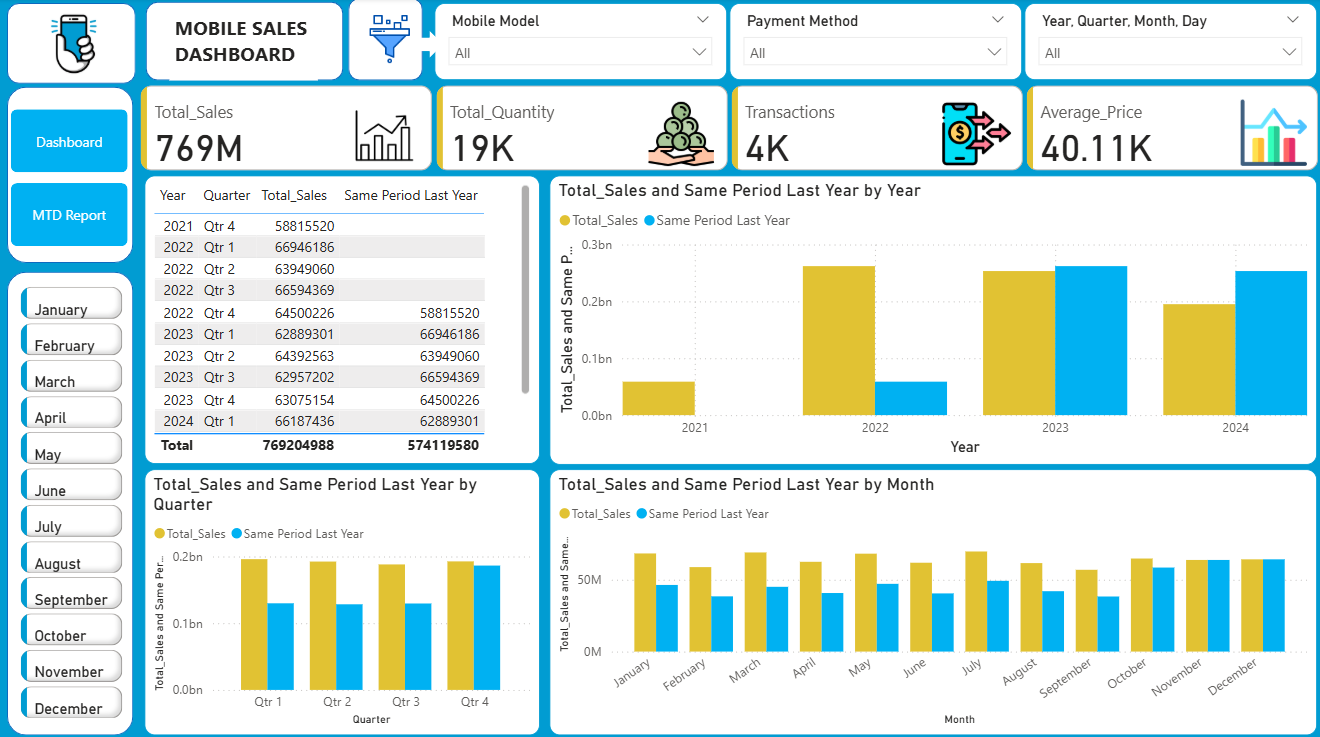

The page's visual inventory and layout, read from the dashboard file:
{"tool":"powerbi","page":{"name":"Same Period Last Year","canvas":[1280,720],"ordinal":2},"visuals":[{"type":"shape","box":[9.7,4.8,124.3,78],"z":0},{"type":"image","box":[27.7,2.4,92,83],"z":1000},{"type":"cardVisual","fields":{"Data":["Sales_Data.Total_Sales","Sales_Data.Total_Quantity","Sales_Data.Transactions","Sales_Data.Average_Price"]},"box":[133.9,79.6,1146.1,92.9],"z":2000},{"type":"slicer","fields":{"Values":["Sales_Data.Mobile Model"]},"box":[422.3,4.8,282,74.8],"z":3000},{"type":"slicer","fields":{"Values":["Sales_Data.Payment Method"]},"box":[707,4.8,282,74.8],"z":4000},{"type":"slicer","fields":{"Values":["Custom_Calendar.Date.Variation.Date Hierarchy.Year","Custom_Calendar.Date.Variation.Date Hierarchy.Quarter","Custom_Calendar.Date.Variation.Date Hierarchy.Month","Custom_Calendar.Date.Variation.Date Hierarchy.Day"]},"box":[991.7,4.8,282,74.8],"z":5000},{"type":"shape","box":[339,0,72,79.6],"z":6000},{"type":"image","box":[346.2,10.9,65.1,57.9],"z":7000},{"type":"shape","box":[401.7,31.4,29,26.5],"z":8000},{"type":"shape","box":[143.6,3.6,190.6,76],"z":9000},{"type":"textbox","box":[166.5,10.9,143.6,68.8],"z":10000},{"type":"shape","box":[9.7,85.7,121.9,170.1],"z":11000},{"type":"shape","box":[9.7,264.2,121.9,447.6],"z":13000},{"type":"advancedSlicerVisual","fields":{"Values":["Custom_Calendar.Date.Variation.Date Hierarchy.Month"]},"box":[18.1,273.9,108.6,437.9],"z":14000},{"type":"tableEx","fields":{"Values":["Custom_Calendar.Date.Variation.Date Hierarchy.Year","Custom_Calendar.Date.Variation.Date Hierarchy.Quarter","Sales_Data.Total_Sales","Sales_Data.Same Period Last Year"]},"box":[142.4,171.3,381.2,278.7],"z":14001},{"type":"clusteredColumnChart","fields":{"Category":["Custom_Calendar.Date.Variation.Date Hierarchy.Year","Custom_Calendar.Date.Variation.Date Hierarchy.Quarter"],"Y":["Sales_Data.Total_Sales","Sales_Data.Same Period Last Year"]},"box":[533.2,171.3,740.8,279],"z":14002},{"type":"clusteredColumnChart","fields":{"Category":["Custom_Calendar.Date.Variation.Date Hierarchy.Year","Custom_Calendar.Date.Variation.Date Hierarchy.Quarter"],"Y":["Sales_Data.Total_Sales","Sales_Data.Same Period Last Year"]},"box":[142.4,454.8,381.2,257],"z":14003},{"type":"clusteredColumnChart","fields":{"Y":["Sales_Data.Total_Sales","Sales_Data.Same Period Last Year"],"Category":["Custom_Calendar.Date.Variation.Date Hierarchy.Year","Custom_Calendar.Date.Variation.Date Hierarchy.Quarter","Custom_Calendar.Date.Variation.Date Hierarchy.Month","Custom_Calendar.Date.Variation.Date Hierarchy.Day"]},"box":[533.2,454.8,740.8,257],"z":14004},{"type":"pageNavigator","box":[13.3,107.4,113.4,133.9],"z":14005}]}

Visuals, with their boxes in screenshot pixels (x1, y1, x2, y2), scaled from the page's 1280x720 canvas onto the 1320x737 screenshot:
shape: locate(10, 5, 138, 85)
image: locate(29, 2, 123, 87)
cardVisual - Sales_Data.Total_Sales x Sales_Data.Total_Quantity: locate(138, 81, 1319, 177)
slicer - Sales_Data.Mobile Model: locate(435, 5, 726, 81)
slicer - Sales_Data.Payment Method: locate(729, 5, 1020, 81)
slicer - Custom_Calendar.Date.Variation.Date Hierarchy.Year x Custom_Calendar.Date.Variation.Date Hierarchy.Quarter: locate(1023, 5, 1314, 81)
shape: locate(350, 0, 424, 81)
image: locate(357, 11, 424, 70)
shape: locate(414, 32, 444, 59)
shape: locate(148, 4, 345, 81)
textbox: locate(172, 11, 320, 82)
shape: locate(10, 88, 136, 262)
shape: locate(10, 270, 136, 729)
advancedSlicerVisual - Custom_Calendar.Date.Variation.Date Hierarchy.Month: locate(19, 280, 131, 729)
tableEx - Custom_Calendar.Date.Variation.Date Hierarchy.Year x Custom_Calendar.Date.Variation.Date Hierarchy.Quarter: locate(147, 175, 540, 461)
clusteredColumnChart - Custom_Calendar.Date.Variation.Date Hierarchy.Year x Custom_Calendar.Date.Variation.Date Hierarchy.Quarter: locate(550, 175, 1314, 461)
clusteredColumnChart - Custom_Calendar.Date.Variation.Date Hierarchy.Year x Custom_Calendar.Date.Variation.Date Hierarchy.Quarter: locate(147, 466, 540, 729)
clusteredColumnChart - Sales_Data.Total_Sales x Sales_Data.Same Period Last Year: locate(550, 466, 1314, 729)
pageNavigator: locate(14, 110, 131, 247)
